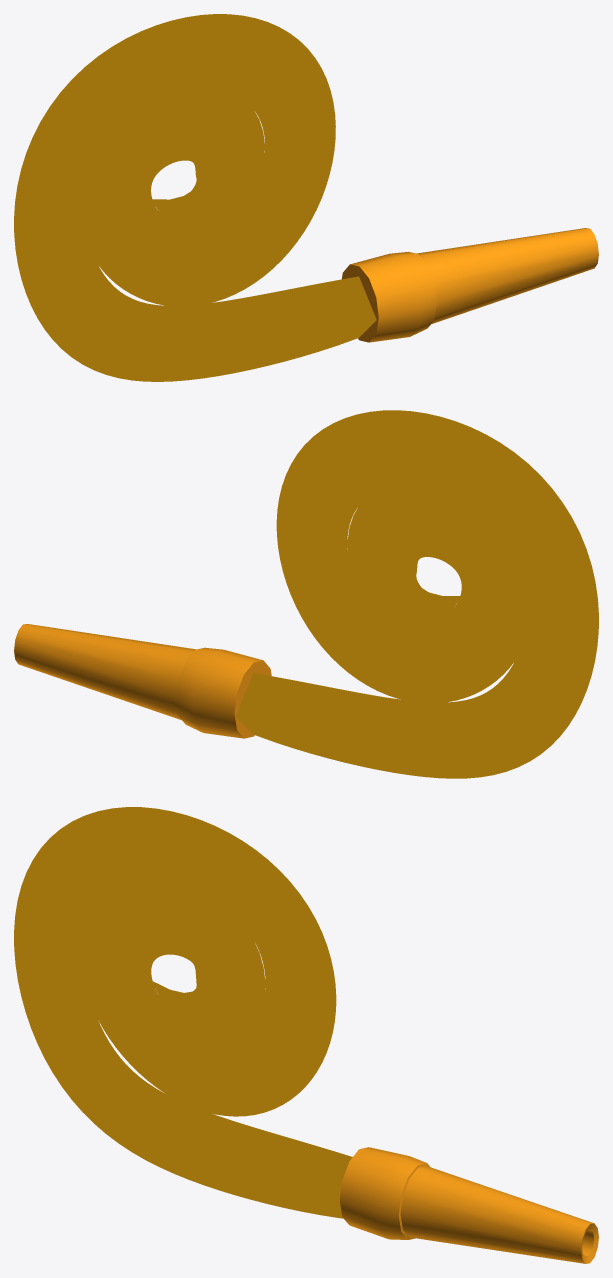
File: party_whistle_blower_its_freee.obj
3 views of the same model, one above another, from view 1: azimuth 30°, elevation 25°; view 2: azimuth 150°, elevation 25°; view 3: azimuth 330°, elevation 25° (orthographic).
Visible parts, largest first — view 1: obj2, obj1; view 2: obj2, obj1; view 3: obj2, obj1.
Part boxes in pixels (<box>): obj2: <box>14,14,376,381</box>; obj1: <box>342,228,598,342</box>; obj2: <box>235,410,598,778</box>; obj1: <box>14,624,271,738</box>; obj2: <box>14,807,352,1218</box>; obj1: <box>339,1147,598,1263</box>.
Size of the model in its own units: 6.67 by 4.09 by 0.8585.
